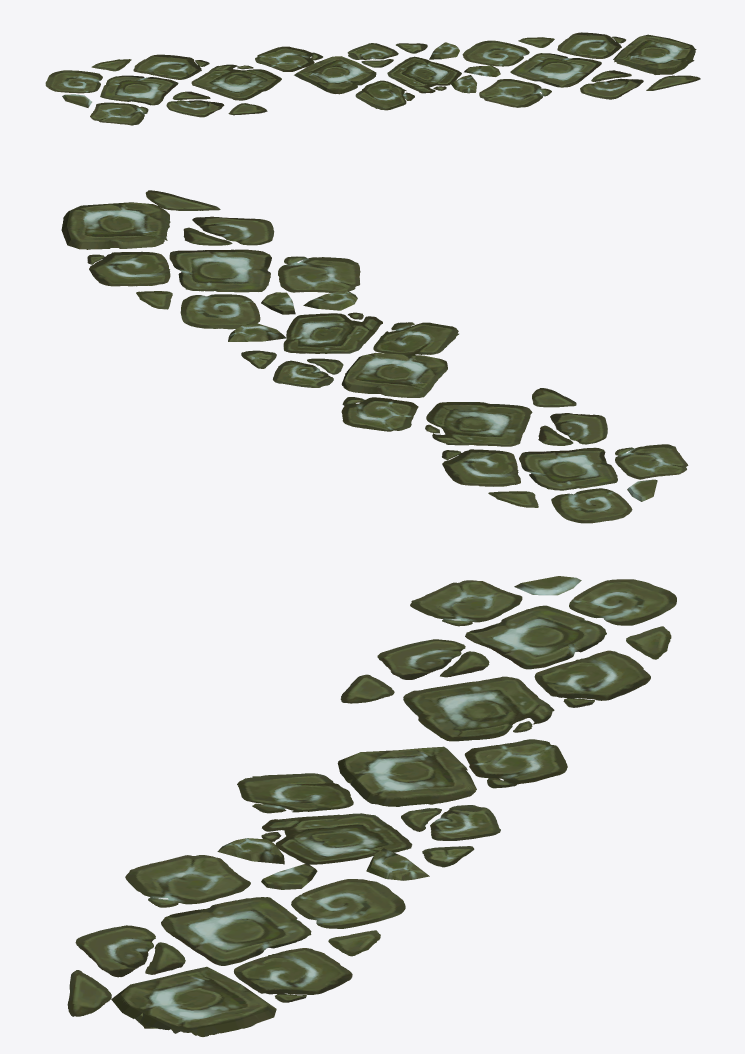
The model's file is pavers_s_snow_02.fbx.
3 renders of one model, top to bottom at view 1: azimuth 30°, elevation 25°; view 2: azimuth 150°, elevation 25°; view 3: azimuth 270°, elevation 25°, orthographic. The views are drawn at different scales.
Visible parts, largest first — view 1: obj0.102; view 2: obj0.102; view 3: obj0.102.
Part boxes in pixels (x1,y1,x2,y2): obj0.102: (45, 32, 700, 125); obj0.102: (61, 190, 688, 523); obj0.102: (67, 576, 676, 1036).
Bounding box in the file's own units: 15.42 × 0.1205 × 10.02.
